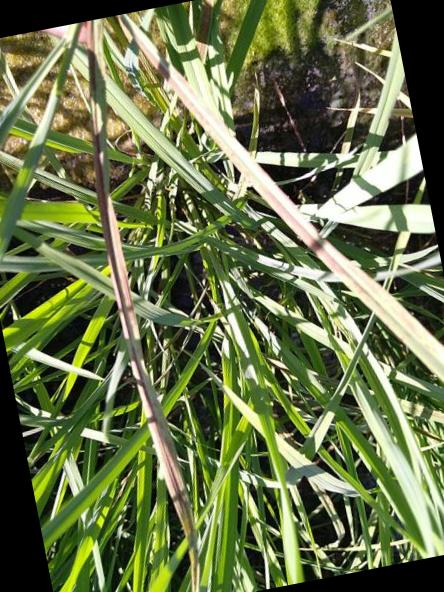Leaf Streak: (118, 13, 444, 385), (90, 17, 199, 592)
